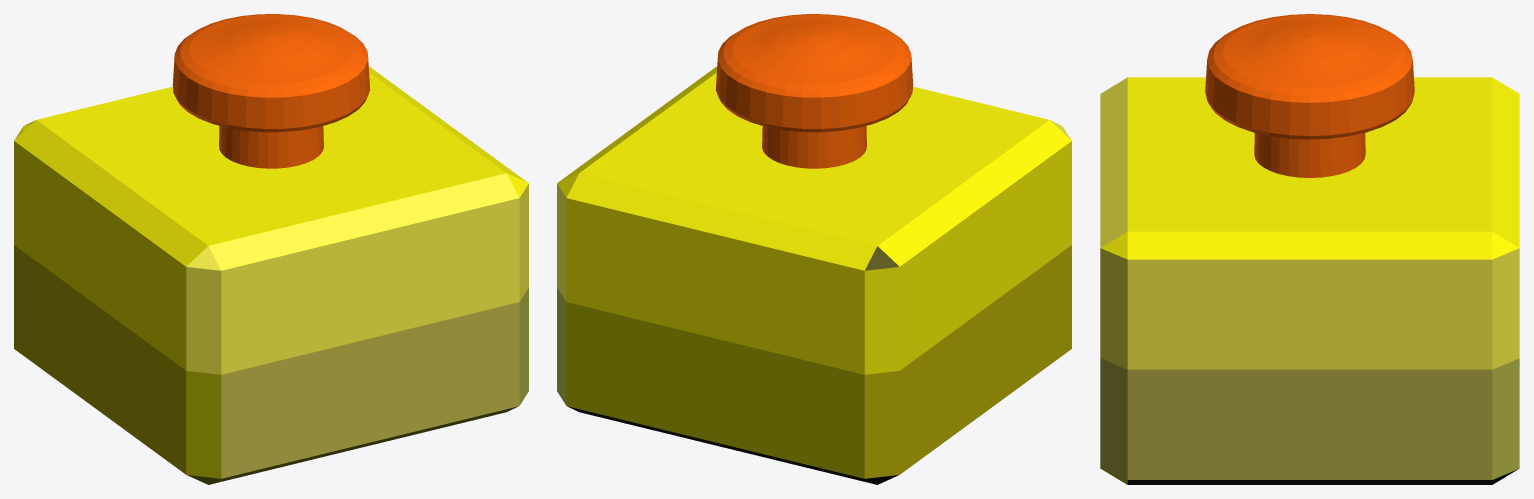
The model's file is emergencyStopButton.dae.
The picture shows the model from 3 angles, left to right: view 1: azimuth 30°, elevation 25°; view 2: azimuth 150°, elevation 25°; view 3: azimuth 270°, elevation 25°; orthographic projection. The views are drawn at different scales.
Visible parts, largest first — view 1: emergencyStopButton; view 2: emergencyStopButton; view 3: emergencyStopButton.
Boxes of the visible parts, left/top/right/bottom form: emergencyStopButton: left=14, top=14, right=528, bottom=484; emergencyStopButton: left=557, top=14, right=1071, bottom=484; emergencyStopButton: left=1100, top=14, right=1519, bottom=484.
Bounding box in the file's own units: 0.3 × 0.3 × 0.2921.
